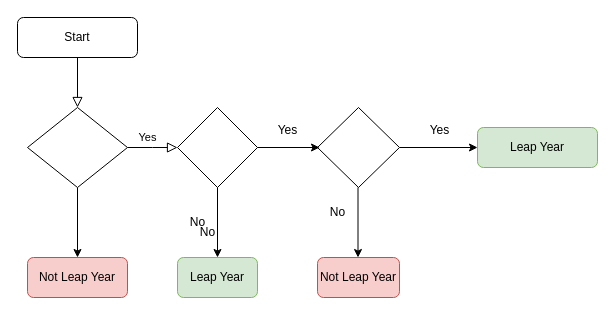
The diagram is 615 pixels wide and 315 high, and some of its shapes have lost their labels. Here are the shapes that lost their labels. From the top down, the box of each, then its label:
(26, 106, 128, 188): Is it cleanly divisible by 4
(176, 106, 258, 188): Is it cleanly divisible by 100
(316, 106, 400, 188): Is it clealy divisible by 400
